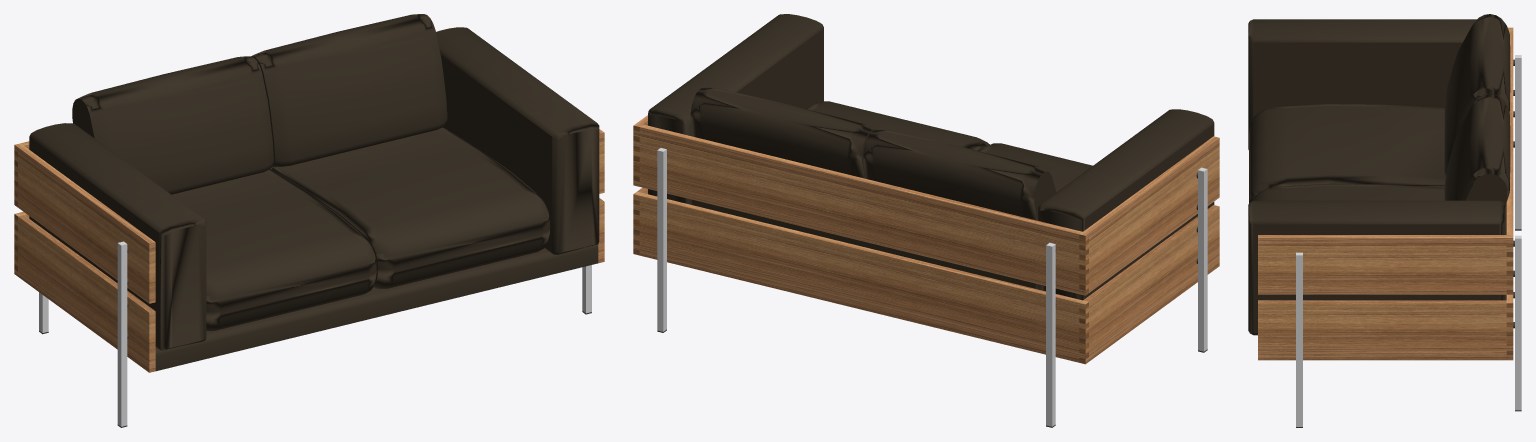
File: sofa.dae
3 renders of one model, left to right at view 1: azimuth 30°, elevation 25°; view 2: azimuth 150°, elevation 25°; view 3: azimuth 270°, elevation 25°, orthographic. The views are drawn at different scales.
Parts seen in each view (by area): view 1: Group14, Group12, Group13, Group10, Group11, Group9, Group8, Group1, Group2, Group3; view 2: Group1, Group2, Group11, Group10, Group12, Group9, Group14, Group7, Group3, Group5, Group4, Group13; view 3: Group9, Group1, Group13, Group2, Group10, Group12, Group11, Group14, Group5, Group4, Group6.
Boxes of the visible parts, left/top/right/bottom form: Group14: left=270, top=127, right=550, bottom=288; Group12: left=251, top=14, right=447, bottom=167; Group13: left=172, top=169, right=376, bottom=331; Group10: left=436, top=27, right=599, bottom=254; Group11: left=72, top=56, right=273, bottom=194; Group9: left=29, top=123, right=206, bottom=350; Group8: left=155, top=245, right=598, bottom=371; Group1: left=14, top=129, right=604, bottom=303; Group2: left=14, top=198, right=604, bottom=372; Group3: left=117, top=241, right=128, bottom=427; Group1: left=633, top=115, right=1219, bottom=295; Group2: left=633, top=187, right=1219, bottom=364; Group11: left=863, top=129, right=1056, bottom=220; Group10: left=648, top=14, right=823, bottom=204; Group12: left=690, top=87, right=875, bottom=178; Group9: left=1038, top=109, right=1214, bottom=300; Group14: left=806, top=101, right=989, bottom=150; Group7: left=692, top=200, right=1038, bottom=289; Group3: left=1196, top=167, right=1207, bottom=352; Group5: left=657, top=148, right=667, bottom=332; Group4: left=1046, top=242, right=1056, bottom=427; Group13: left=978, top=143, right=1092, bottom=191; Group9: left=1248, top=19, right=1476, bottom=149; Group1: left=1258, top=27, right=1513, bottom=294; Group13: left=1249, top=104, right=1445, bottom=203; Group2: left=1258, top=294, right=1513, bottom=360; Group10: left=1248, top=200, right=1504, bottom=335; Group12: left=1444, top=94, right=1510, bottom=206; Group11: left=1444, top=14, right=1510, bottom=175; Group14: left=1252, top=184, right=1444, bottom=200; Group5: left=1513, top=235, right=1521, bottom=411; Group4: left=1513, top=55, right=1521, bottom=230; Group6: left=1296, top=252, right=1302, bottom=427.
Bounding box in the file's own units: 1507 × 801 × 738.
Materials: 7 (2 with a texture image).
